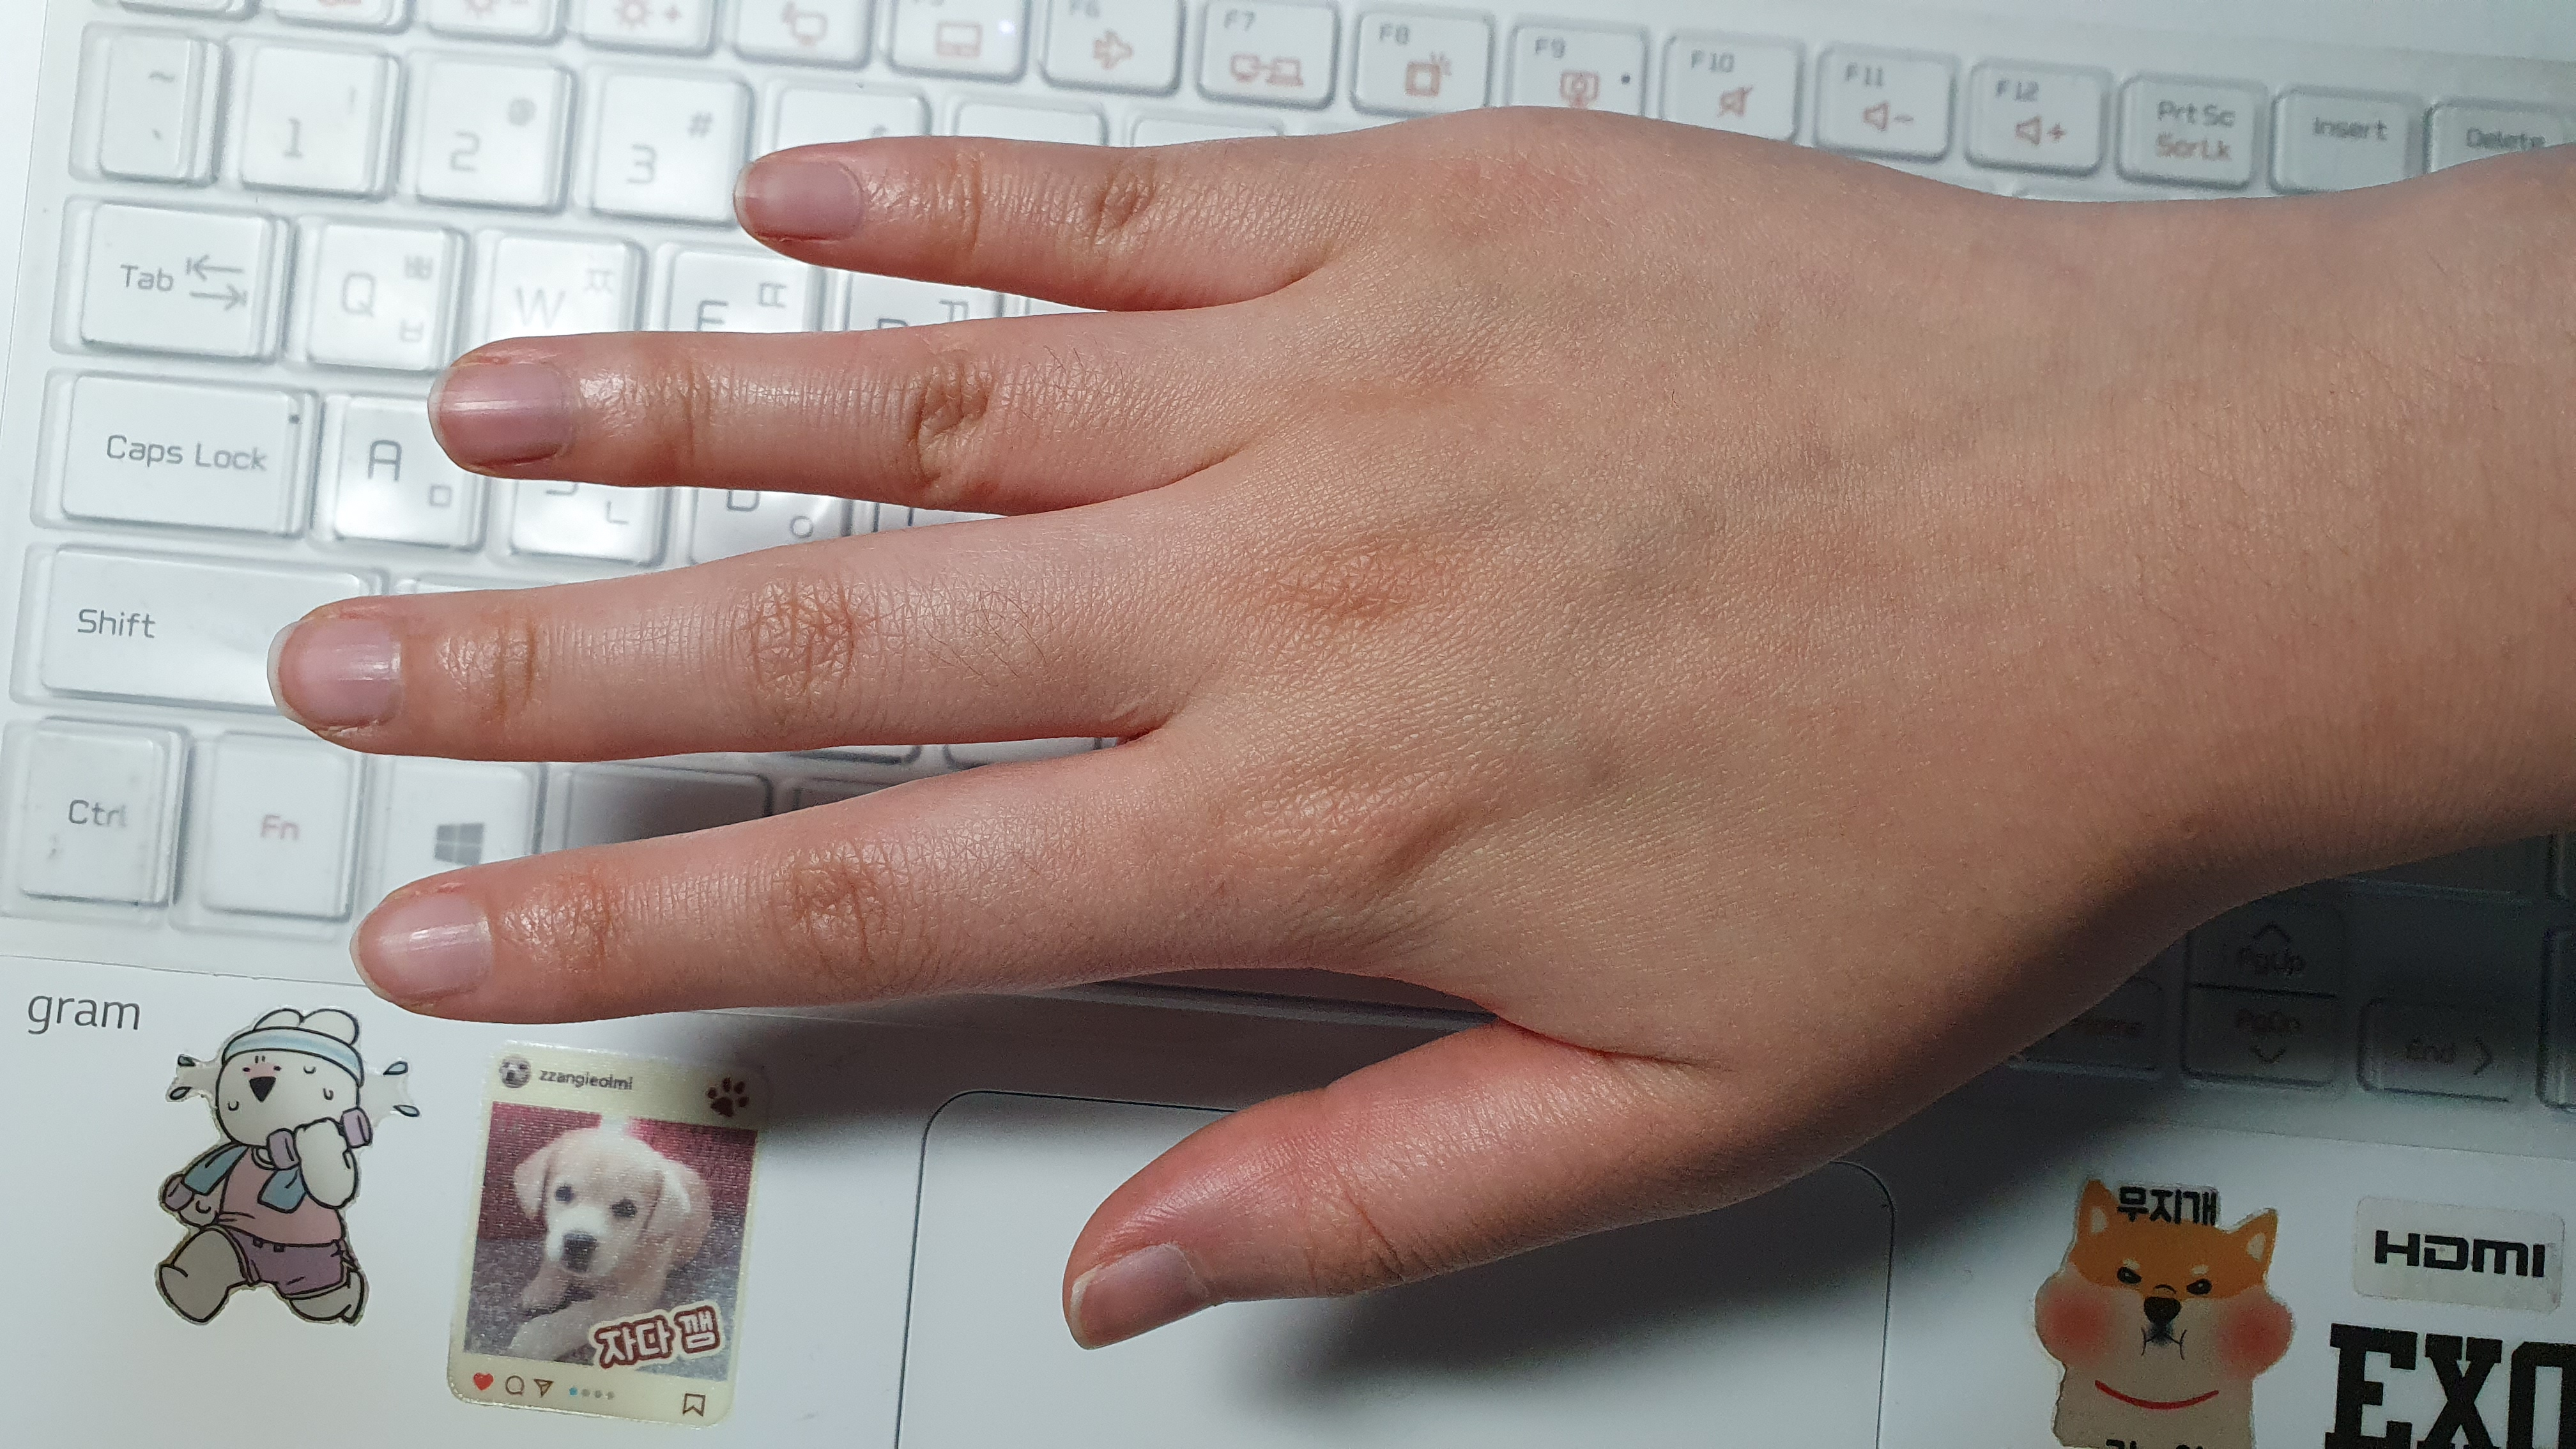backhand: (1189, 113, 2127, 1030)
hand: (258, 108, 2160, 1364)
index finger: (338, 757, 1205, 1040)
middle finger: (264, 548, 1138, 766)
pinky: (724, 120, 1274, 311)
ring finger: (435, 317, 1152, 527)
thumb: (1037, 1030, 1679, 1359)
